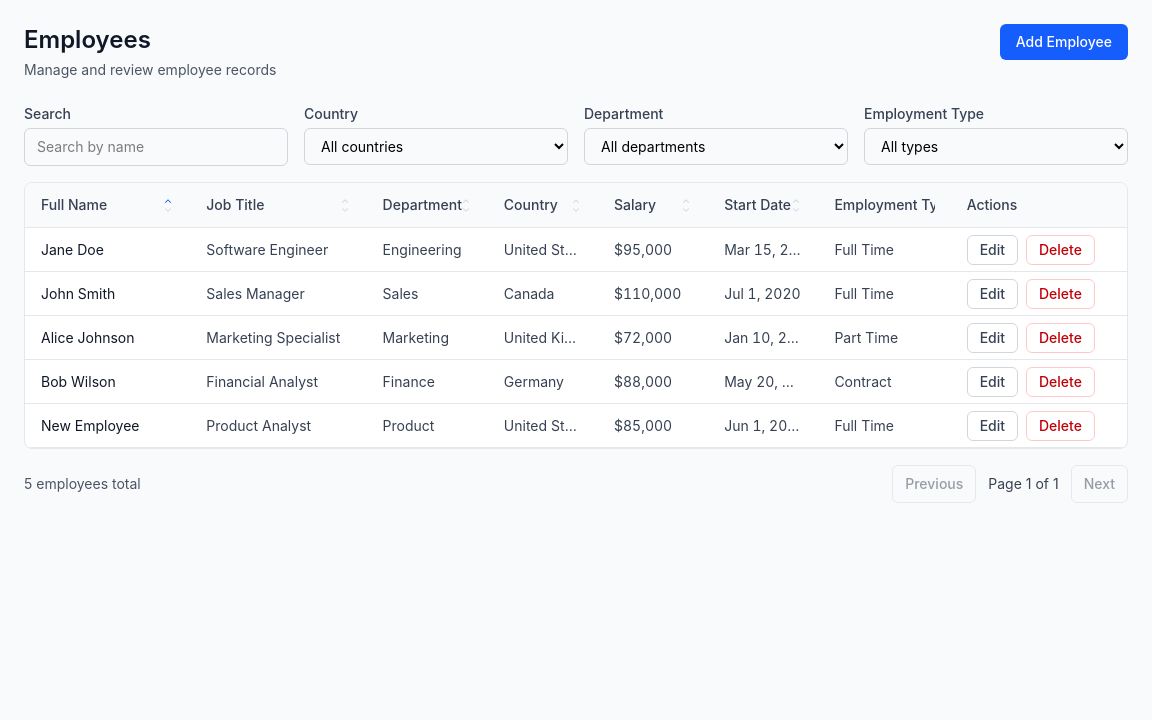
EmployeeForm wiring in EmployeeList › opens edit form from row Edit button
Expected: the cell "Jane Doe" is shown, [25,228,190,272]
What coordinates should you click on to do the following:
click the button "Edit" in the row of "Jane Doe"
I would click on:
 (992, 250)
Its box is [967,234,1018,264].
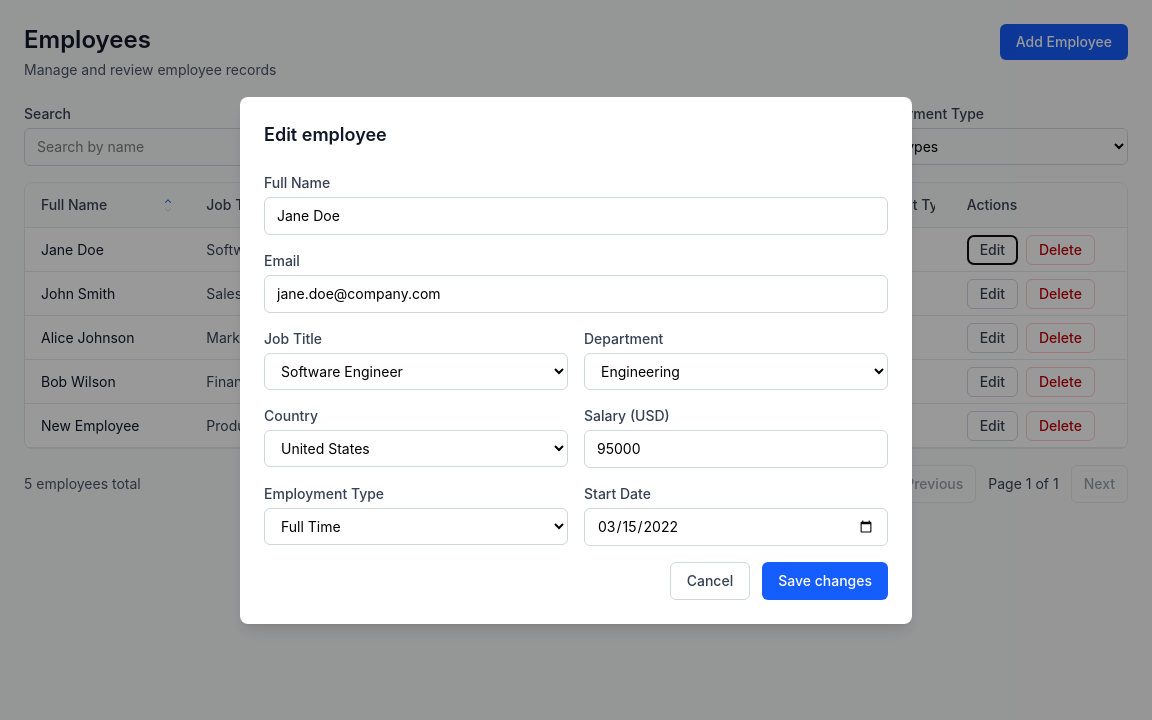
Now the dialog "Edit employee" is shown
Now the field labelled "Full Name" holds "Jane Doe", box [264,196,888,234]
